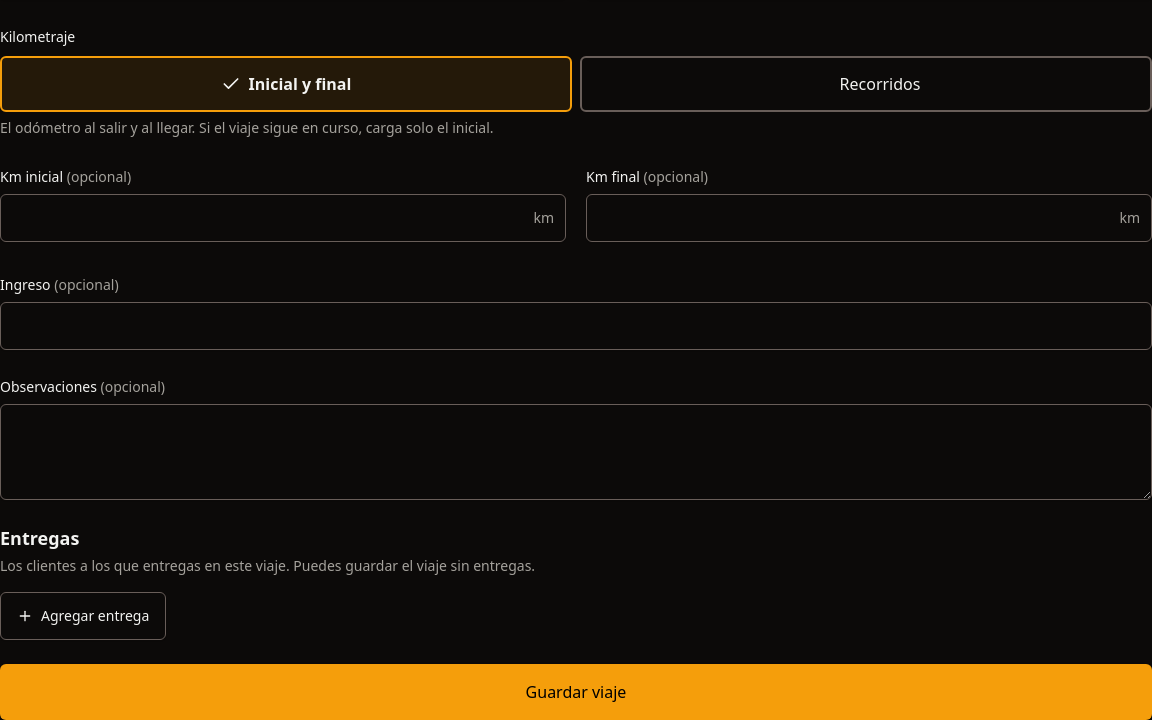
Scenario: formulario de viaje: validación y foco › enviar vacío: errores en español en origen y destino, foco en el primero (origen) y NO se manda nada
(page scrolled)
Click the button "Guardar viaje": (576, 692) left=0, top=664, right=1151, bottom=719
(page scrolled)
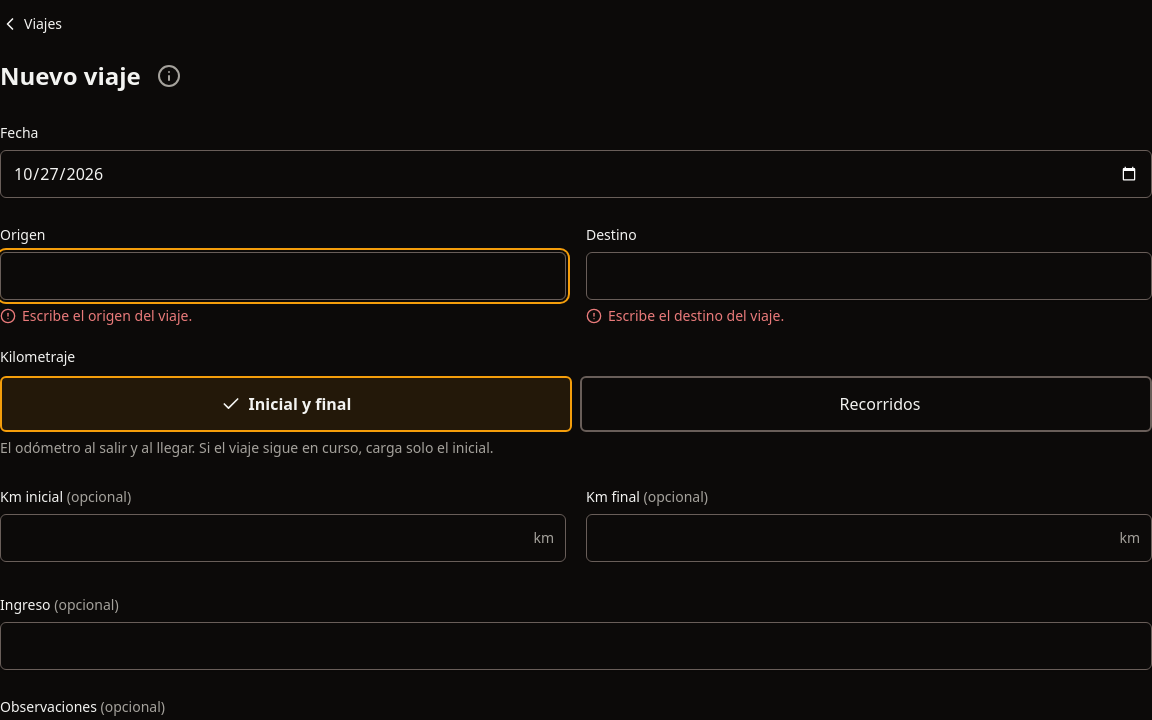
Expected: the text "Escribe el origen del viaje." is shown, left=22, top=306, right=192, bottom=326
Expected: the text "Escribe el destino del viaje." is shown, left=608, top=306, right=784, bottom=326
